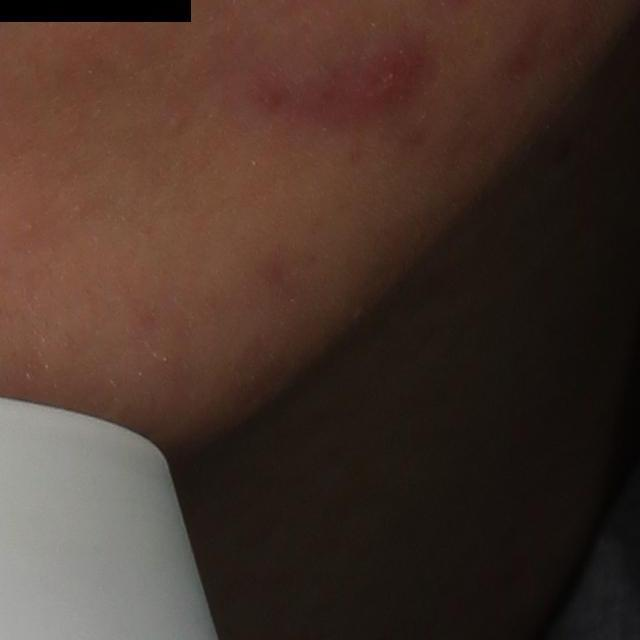papule: (333, 37, 423, 116)
